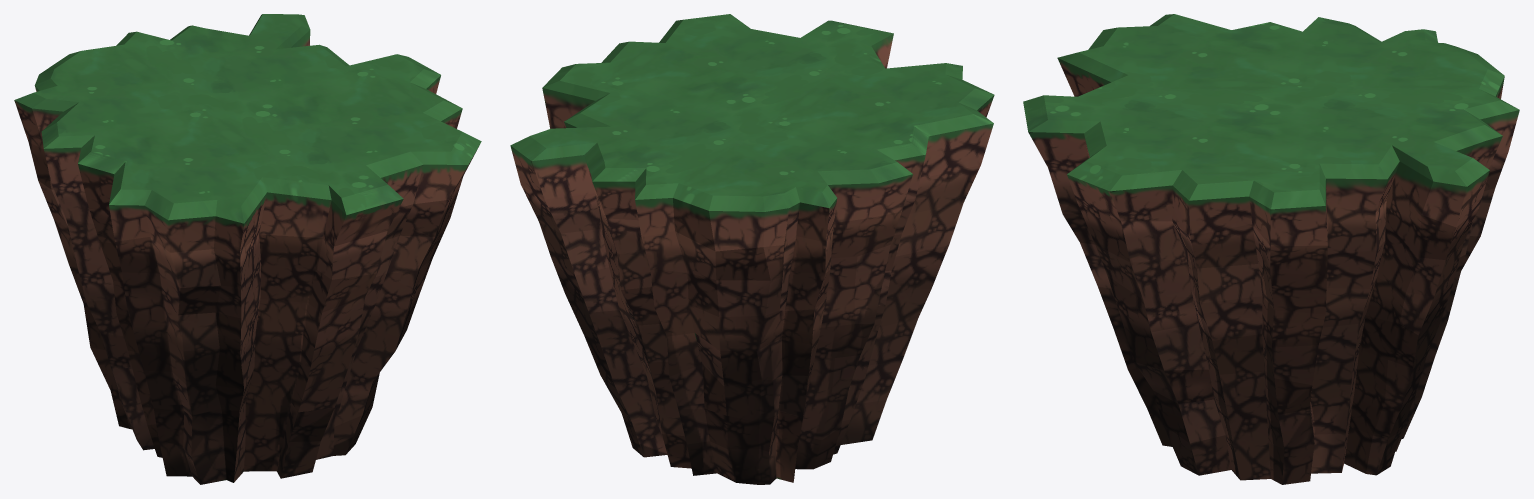
Rendered from cliff.fbx.
3 renders of one model, left to right at view 1: azimuth 30°, elevation 25°; view 2: azimuth 150°, elevation 25°; view 3: azimuth 270°, elevation 25°, orthographic. The views are drawn at different scales.
Visible parts, largest first — view 1: Plane; view 2: Plane; view 3: Plane.
Part boxes in pixels (x1,y1,x2,y2): Plane: (14, 14, 481, 484); Plane: (510, 14, 994, 484); Plane: (1023, 14, 1519, 484).
Size of the model in its own units: 582 by 475 by 629.
1 material, 1 textured.
